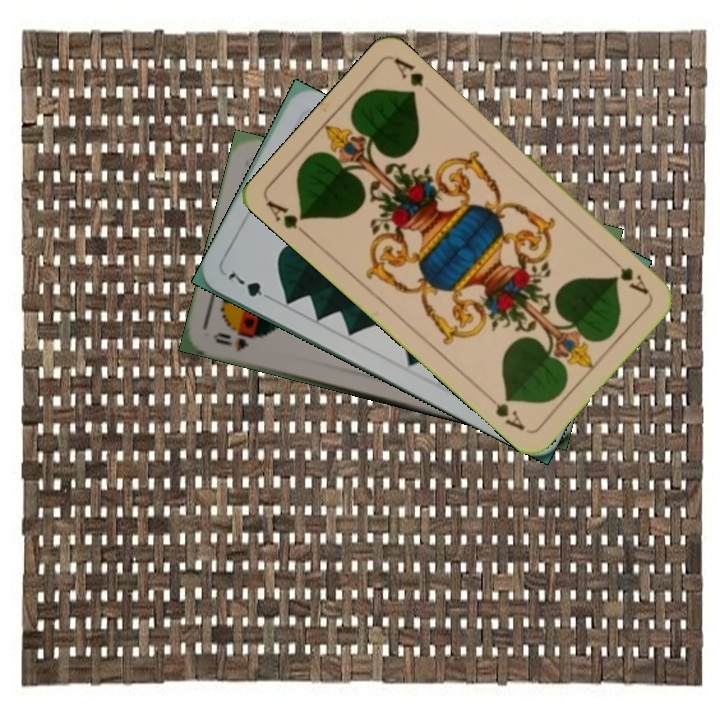G7: (223, 267, 277, 304)
GA: (263, 197, 313, 241), (605, 252, 651, 298)
SO: (209, 328, 251, 354)
